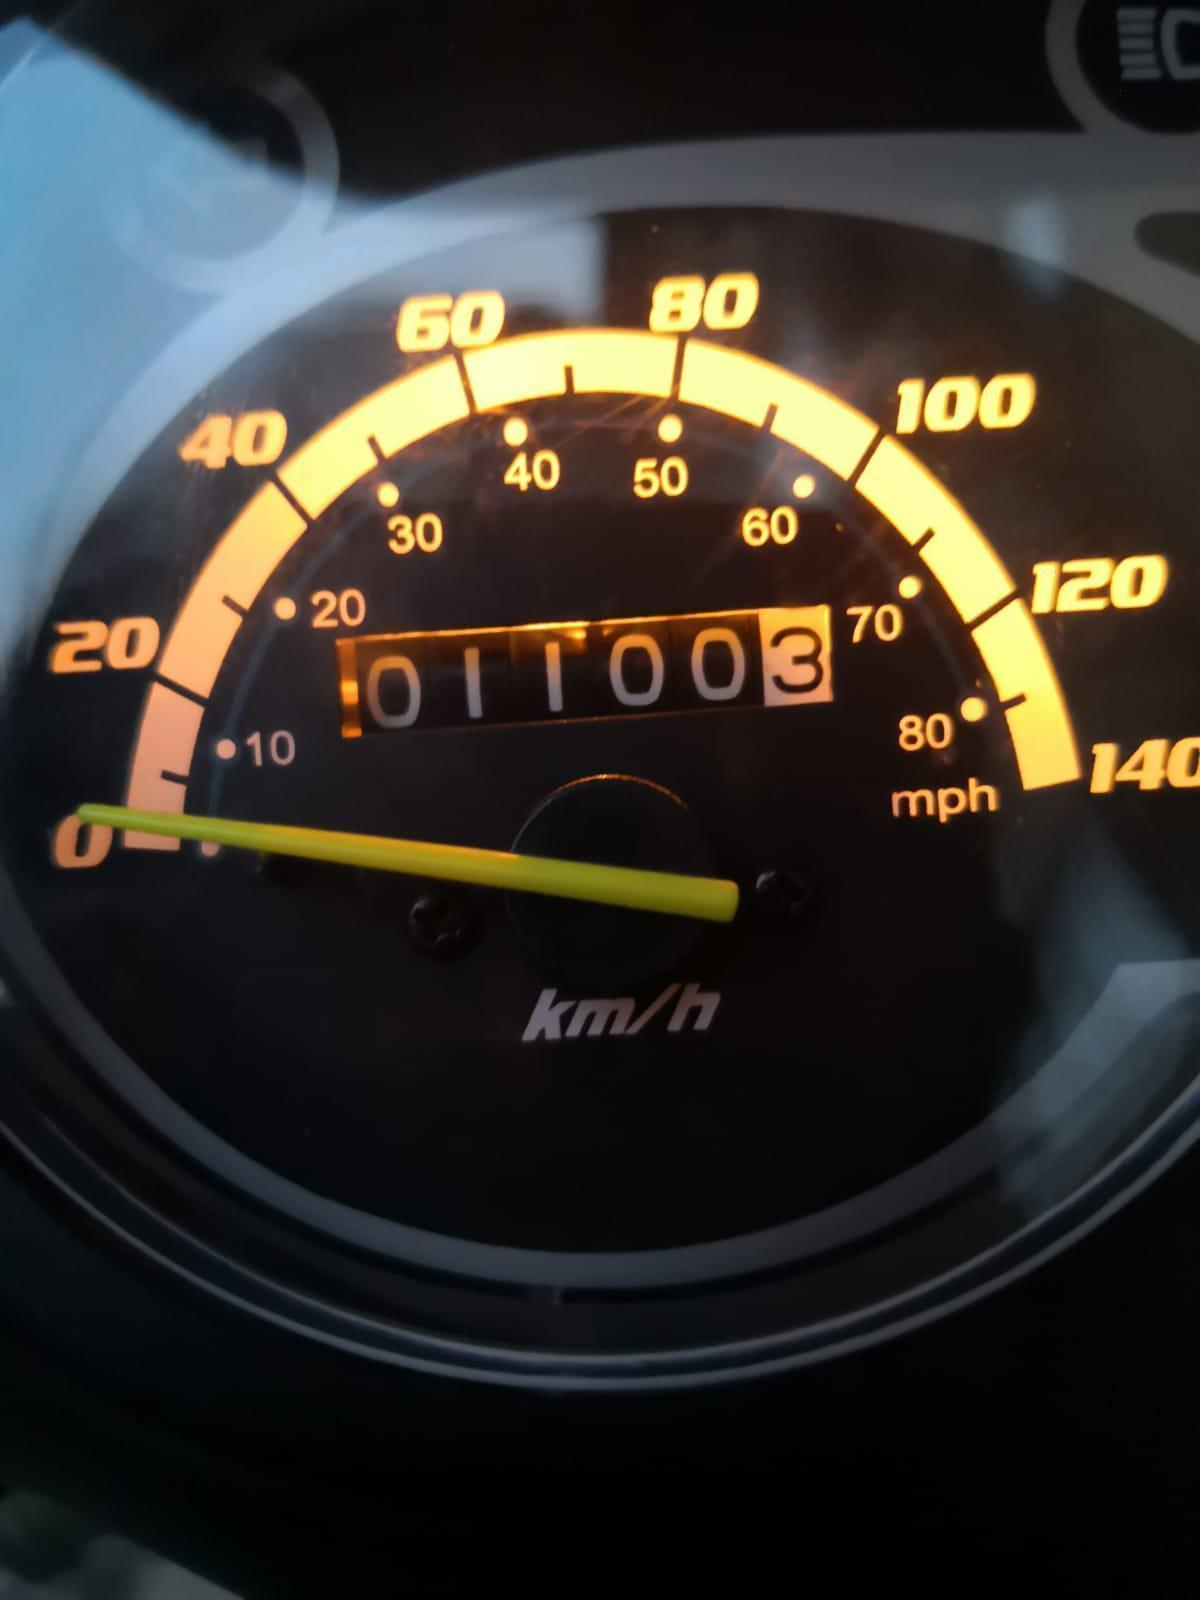0: (358, 649, 425, 733), (603, 627, 667, 714), (683, 622, 750, 706)
1: (531, 634, 579, 717), (455, 641, 492, 723)
3: (765, 619, 828, 695)
odometer: (332, 607, 850, 743)
